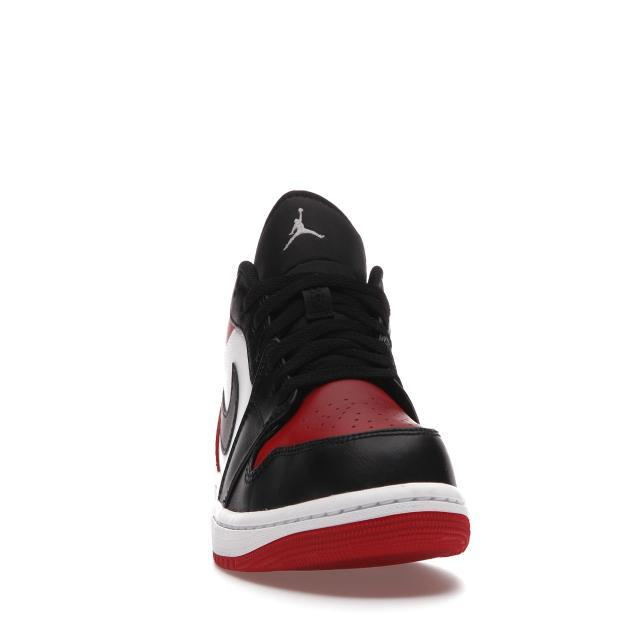J1_InsoleChar: (208, 187, 472, 575)
J1_ShoeLogo: (281, 205, 326, 251), (300, 285, 335, 321)
J1_StitchPattern: (213, 259, 419, 485), (209, 481, 470, 560), (245, 269, 399, 387), (245, 422, 441, 474), (256, 322, 396, 377), (211, 361, 241, 473)
